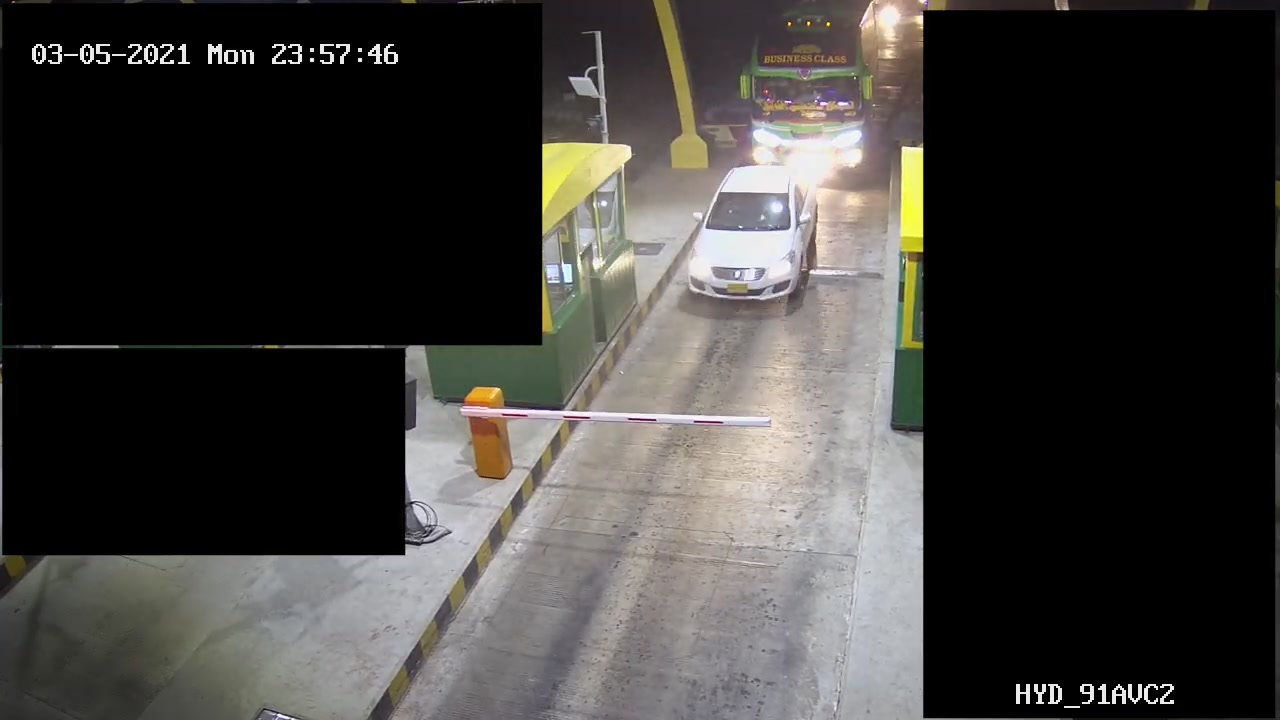F1: (675, 163, 823, 315)
